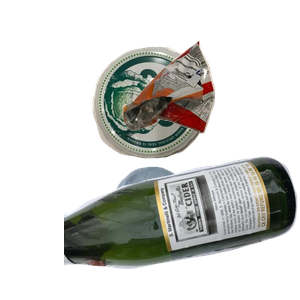glass: (64, 154, 300, 300)
metal: (90, 44, 289, 195)
plastic: (110, 164, 300, 300)
trash: (120, 38, 300, 164)
